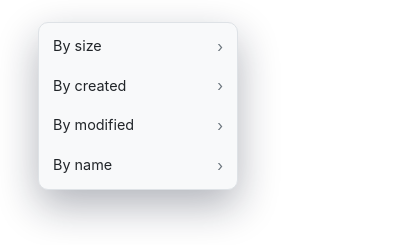
SortMenu › reveals the direction submenu on hover of the second-level item
Hover over the text "By created" at (90, 86), box 53,73 -> 126,99
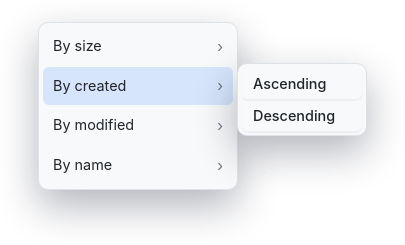
Expected: the menu item "Ascending" is shown, 242,68 -> 362,99
Expected: the menu item "Descending" is shown, 242,100 -> 362,131
